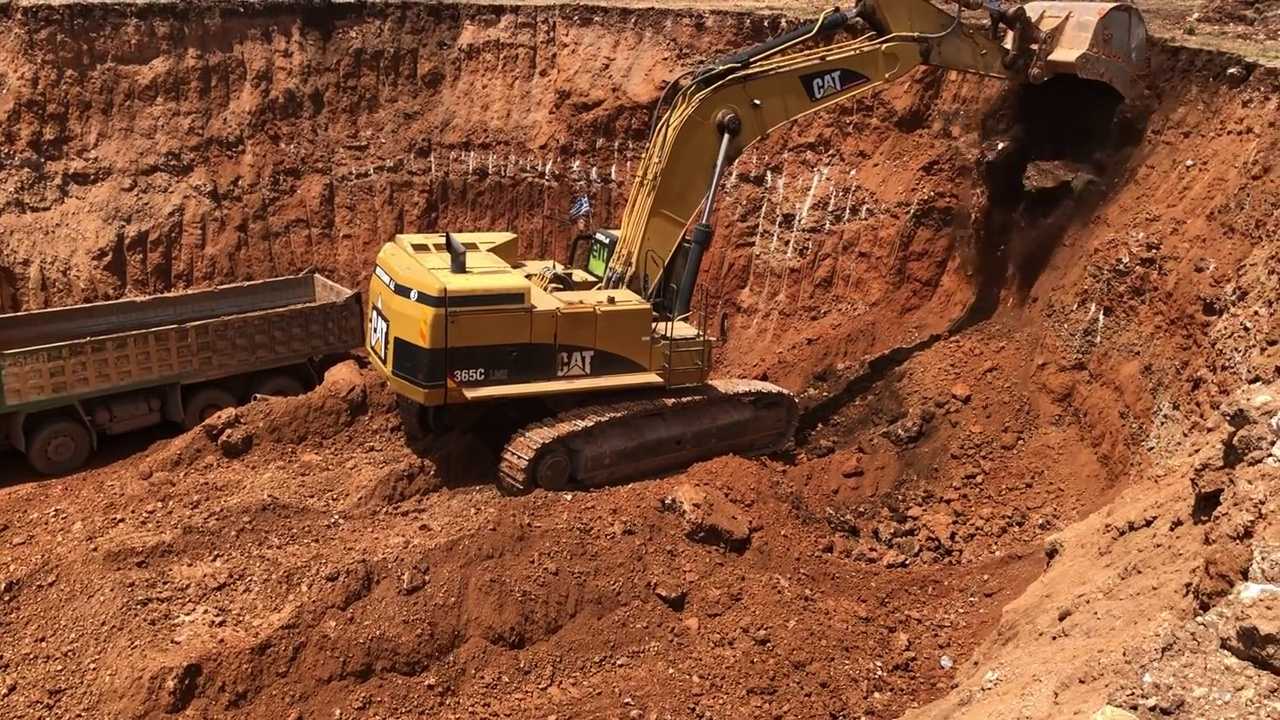excavator: (364, 1, 1150, 494)
truck: (3, 270, 360, 475)
